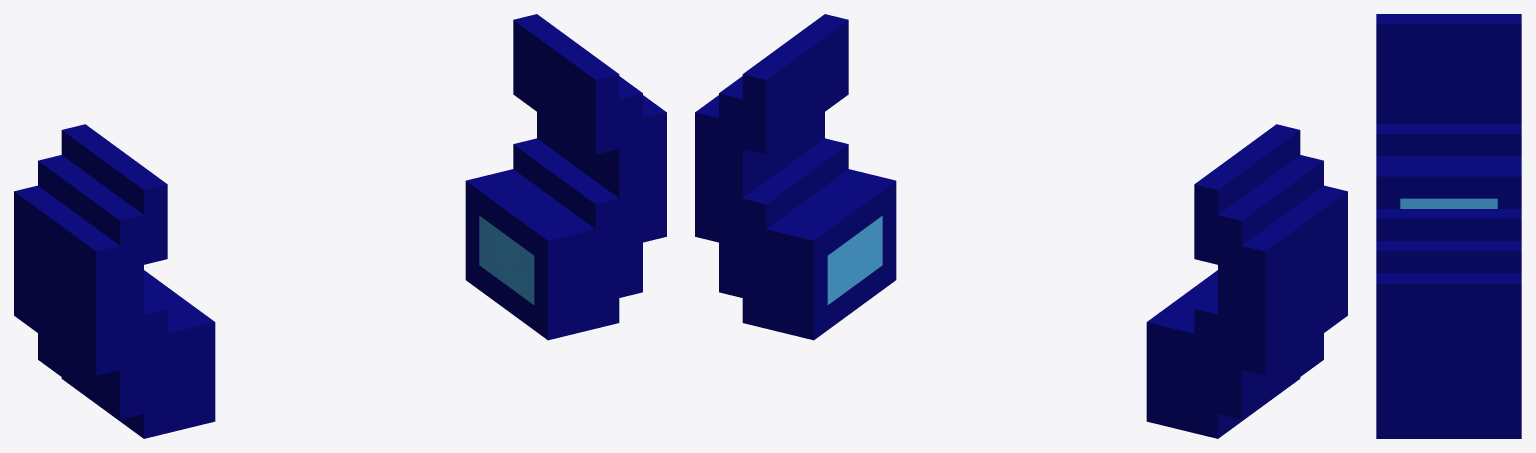
Rendered from GuerreroHieloNivel5.obj.
The picture shows the model from 3 angles, left to right: view 1: azimuth 30°, elevation 25°; view 2: azimuth 150°, elevation 25°; view 3: azimuth 270°, elevation 25°; orthographic projection. The views are drawn at different scales.
Bounding box in the file's own units: 2.4 × 1 × 0.6.
Materials: 1 (1 with a texture image).
